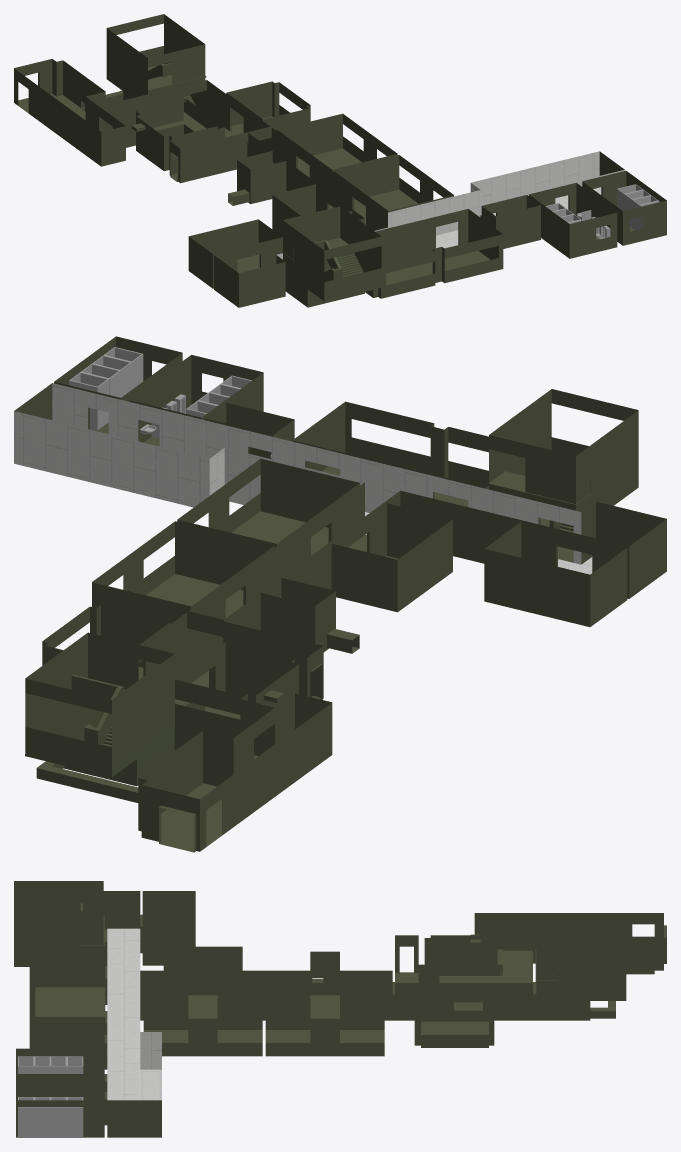
Rendered from hospital_01.fbx.
The picture shows the model from 3 angles, top to bottom: view 1: azimuth 30°, elevation 25°; view 2: azimuth 150°, elevation 25°; view 3: azimuth 270°, elevation 25°; orthographic projection. The views are drawn at different scales.
Parts seen in each view (by area): view 1: group4; view 2: group4; view 3: group4.
Boxes of the visible parts, box(x1,y1,x2,y2) form: group4: box(14, 14, 666, 307); group4: box(14, 336, 666, 852); group4: box(14, 881, 666, 1137).
Size of the model in its own units: 3402 by 574 by 4485.
